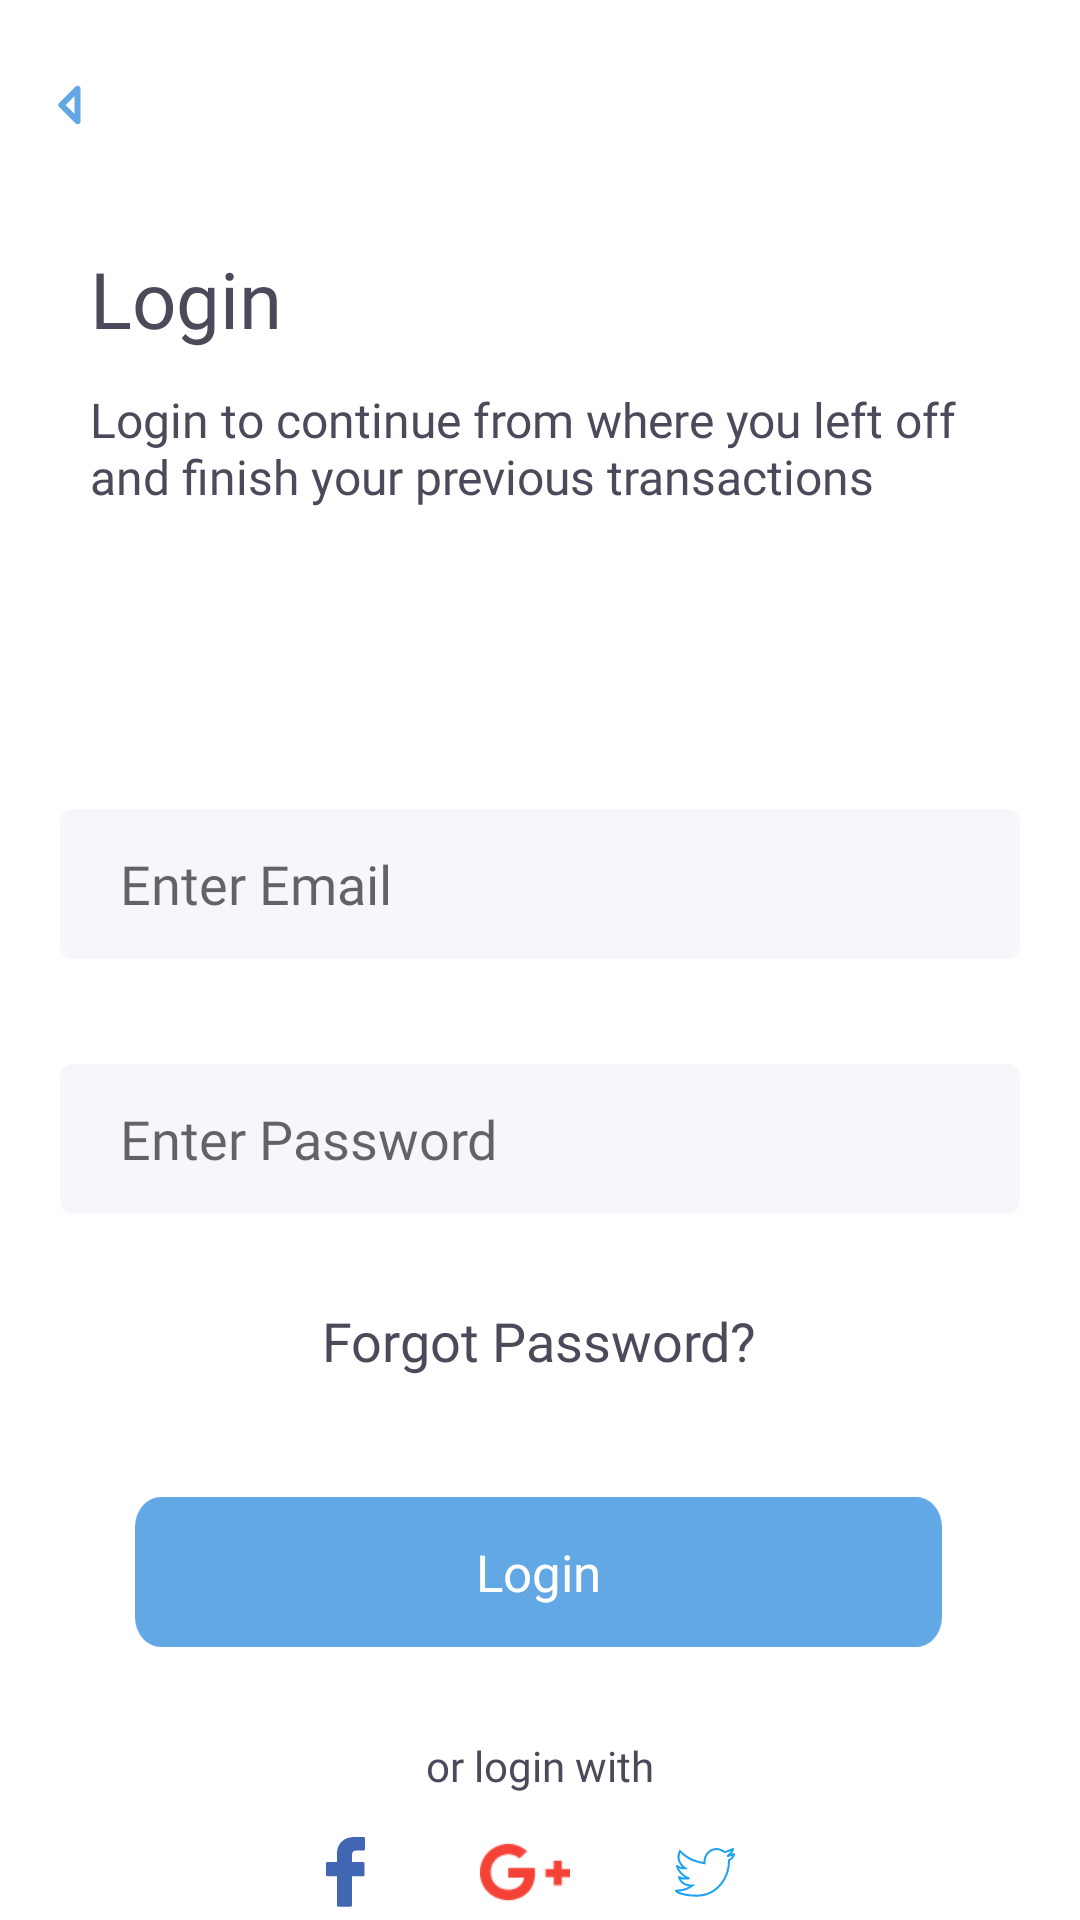

Icons on this 1080 x 1920 Android screen, each with its box as [x1=x1, y1=y1, x2=x2, y2=y2]:
backbtn: [x1=58, y1=85, x2=81, y2=125]
